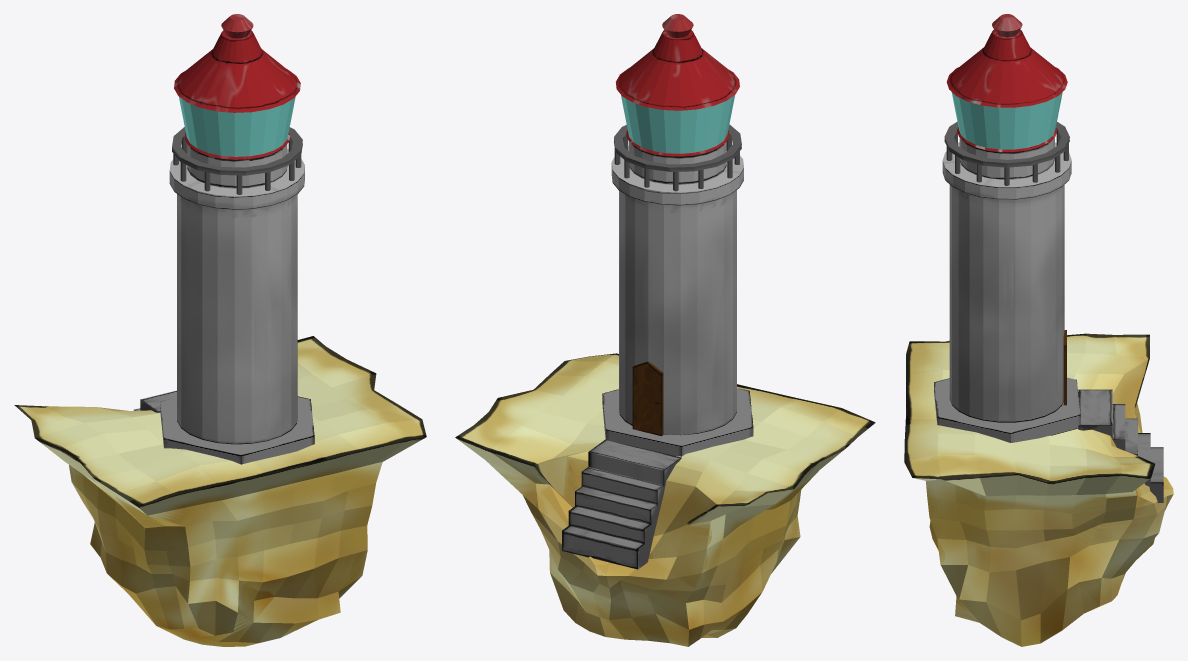
File: faro.fbx
3 views of the same model, side by side, from view 1: azimuth 30°, elevation 25°; view 2: azimuth 150°, elevation 25°; view 3: azimuth 270°, elevation 25° (orthographic). The views are drawn at different scales.
Parts seen in each view (by area): view 1: faro; view 2: faro; view 3: faro.
Boxes of the visible parts, x1,y1,x2,y2 form: faro: (14, 14, 426, 646); faro: (455, 14, 875, 646); faro: (904, 14, 1173, 646).
Size of the model in its own units: 188 by 352 by 143.
